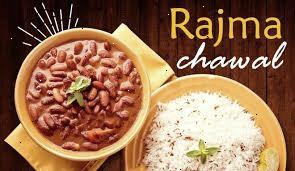rajma: (42, 35, 138, 130)
rice: (154, 89, 289, 171)
